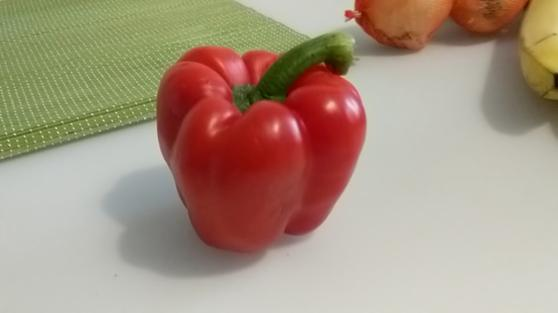pepper: (156, 32, 368, 253)
